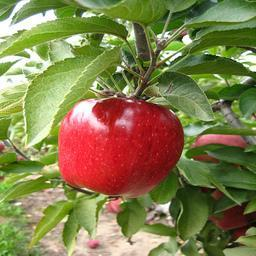apple: (57, 97, 184, 199)
